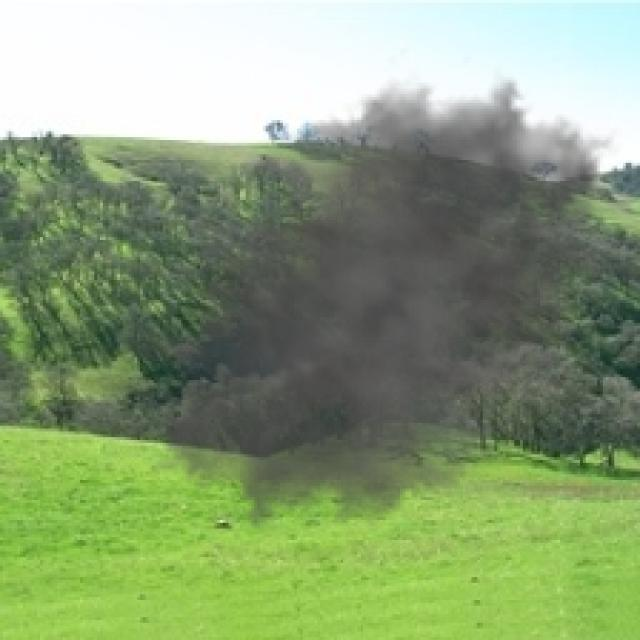Smoke: (125, 46, 638, 566)
